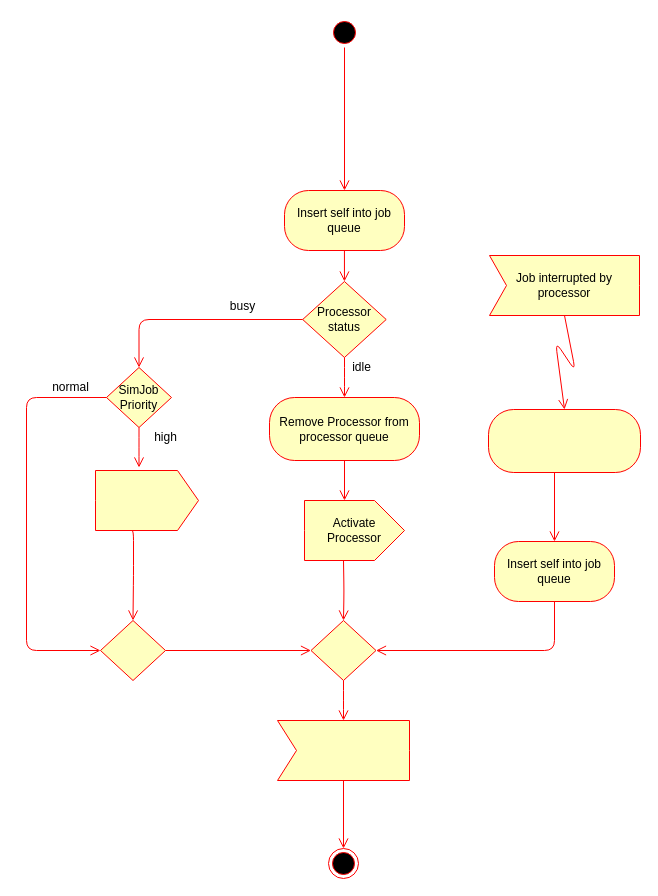
This 658x896 diagram has some shape labels left out. Each missing label, with the centre of its shape:
Calculate remaining execution time: pixel 564 440
Send interrupt signal: pixel 146 500
Wait for end of processesing: pixel 343 750
